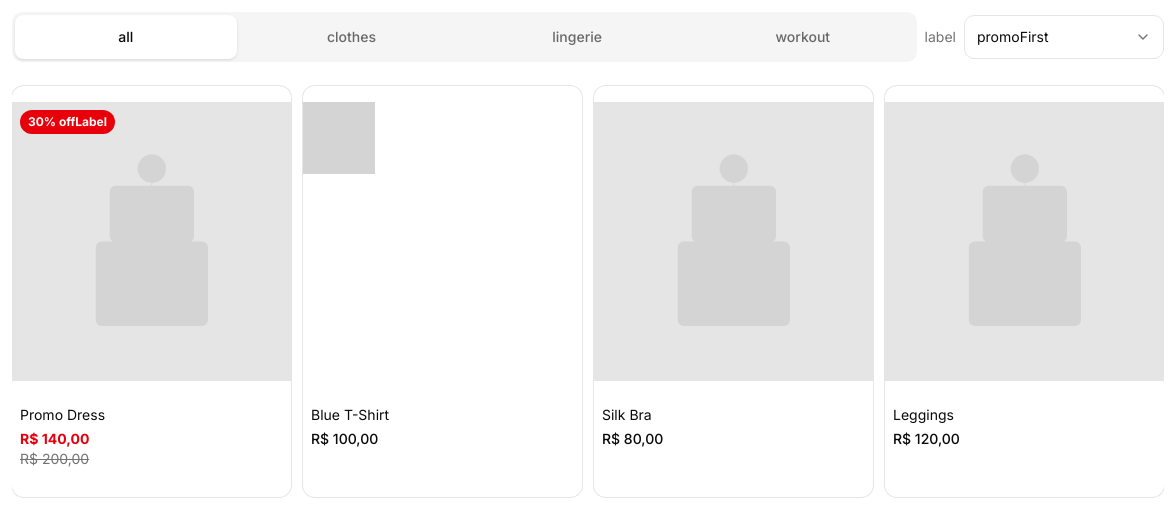
CategoryFilter › shows only CLOTHES products after clicking the CLOTHES tab
The width and height of the screenshot is (1176, 515).
Click the tab "clothes" at {"x": 352, "y": 37}, box [241,15,462,59]
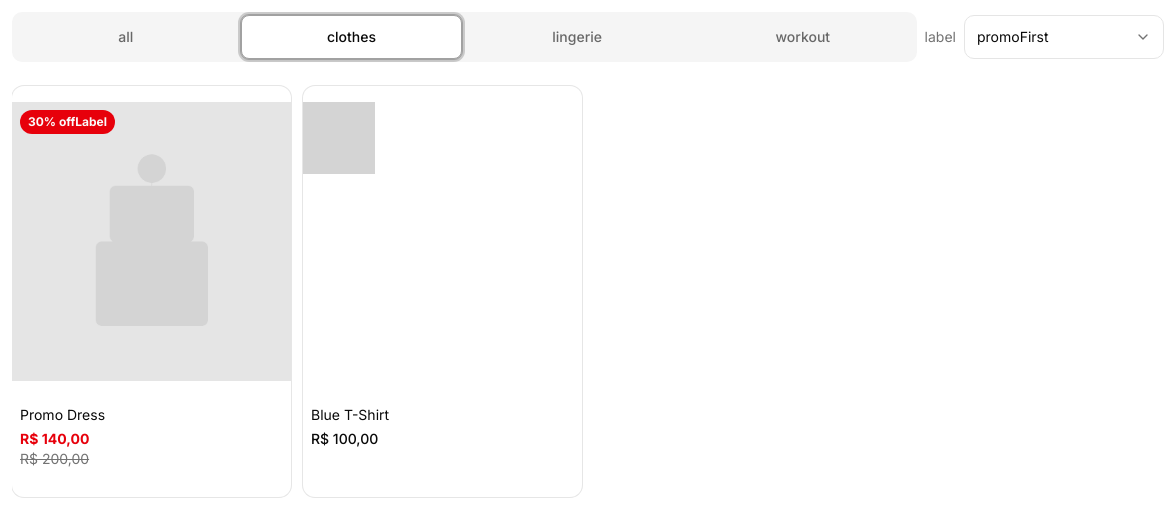
Expected: the text "Blue T-Shirt" is shown, [311,406,389,423]
Now the link "Silk Bra" is gone
Now the link "Leggings" is gone
